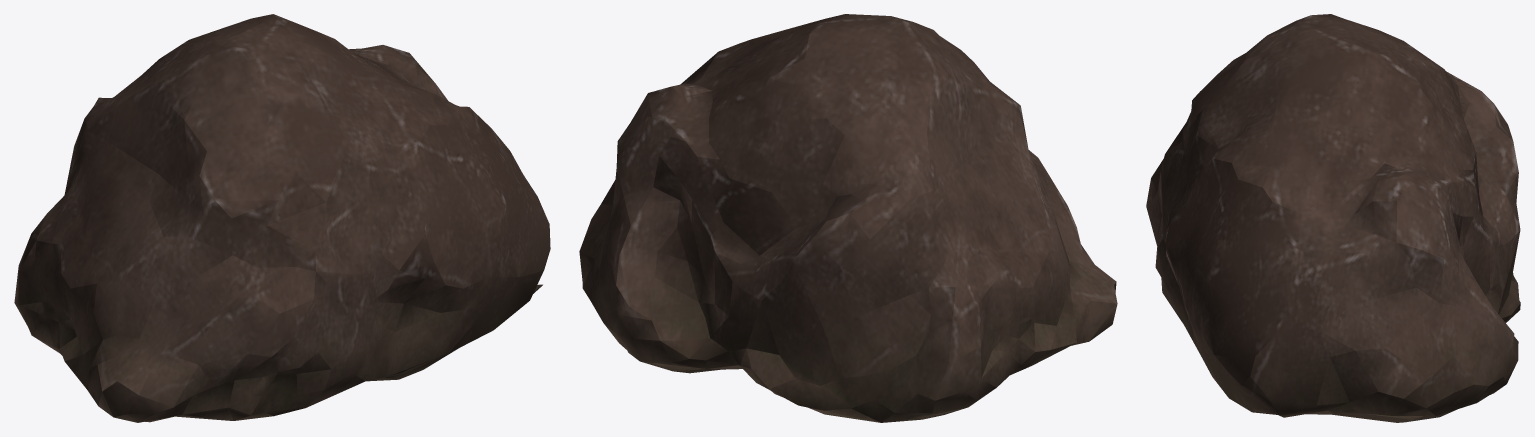
Rendered from RockFBX2.fbx.
3 renders of one model, left to right at view 1: azimuth 30°, elevation 25°; view 2: azimuth 150°, elevation 25°; view 3: azimuth 270°, elevation 25°, orthographic. The views are drawn at different scales.
Parts seen in each view (by area): view 1: Rock_low; view 2: Rock_low; view 3: Rock_low.
Boxes of the visible parts, left/top/right/bottom form: Rock_low: left=14, top=14, right=550, bottom=422; Rock_low: left=579, top=14, right=1117, bottom=422; Rock_low: left=1146, top=14, right=1520, bottom=422.
Size of the model in its own units: 0.00173 by 0.00122 by 0.00129.
